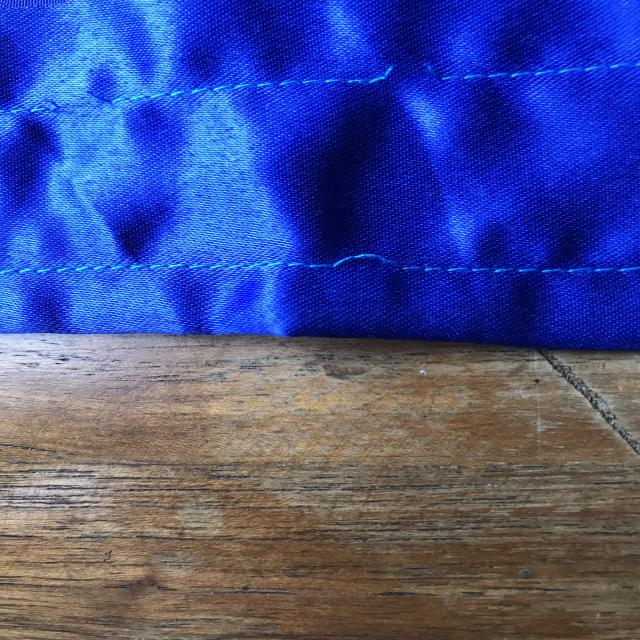broken: (345, 43, 478, 108)
skip: (306, 234, 422, 292)
